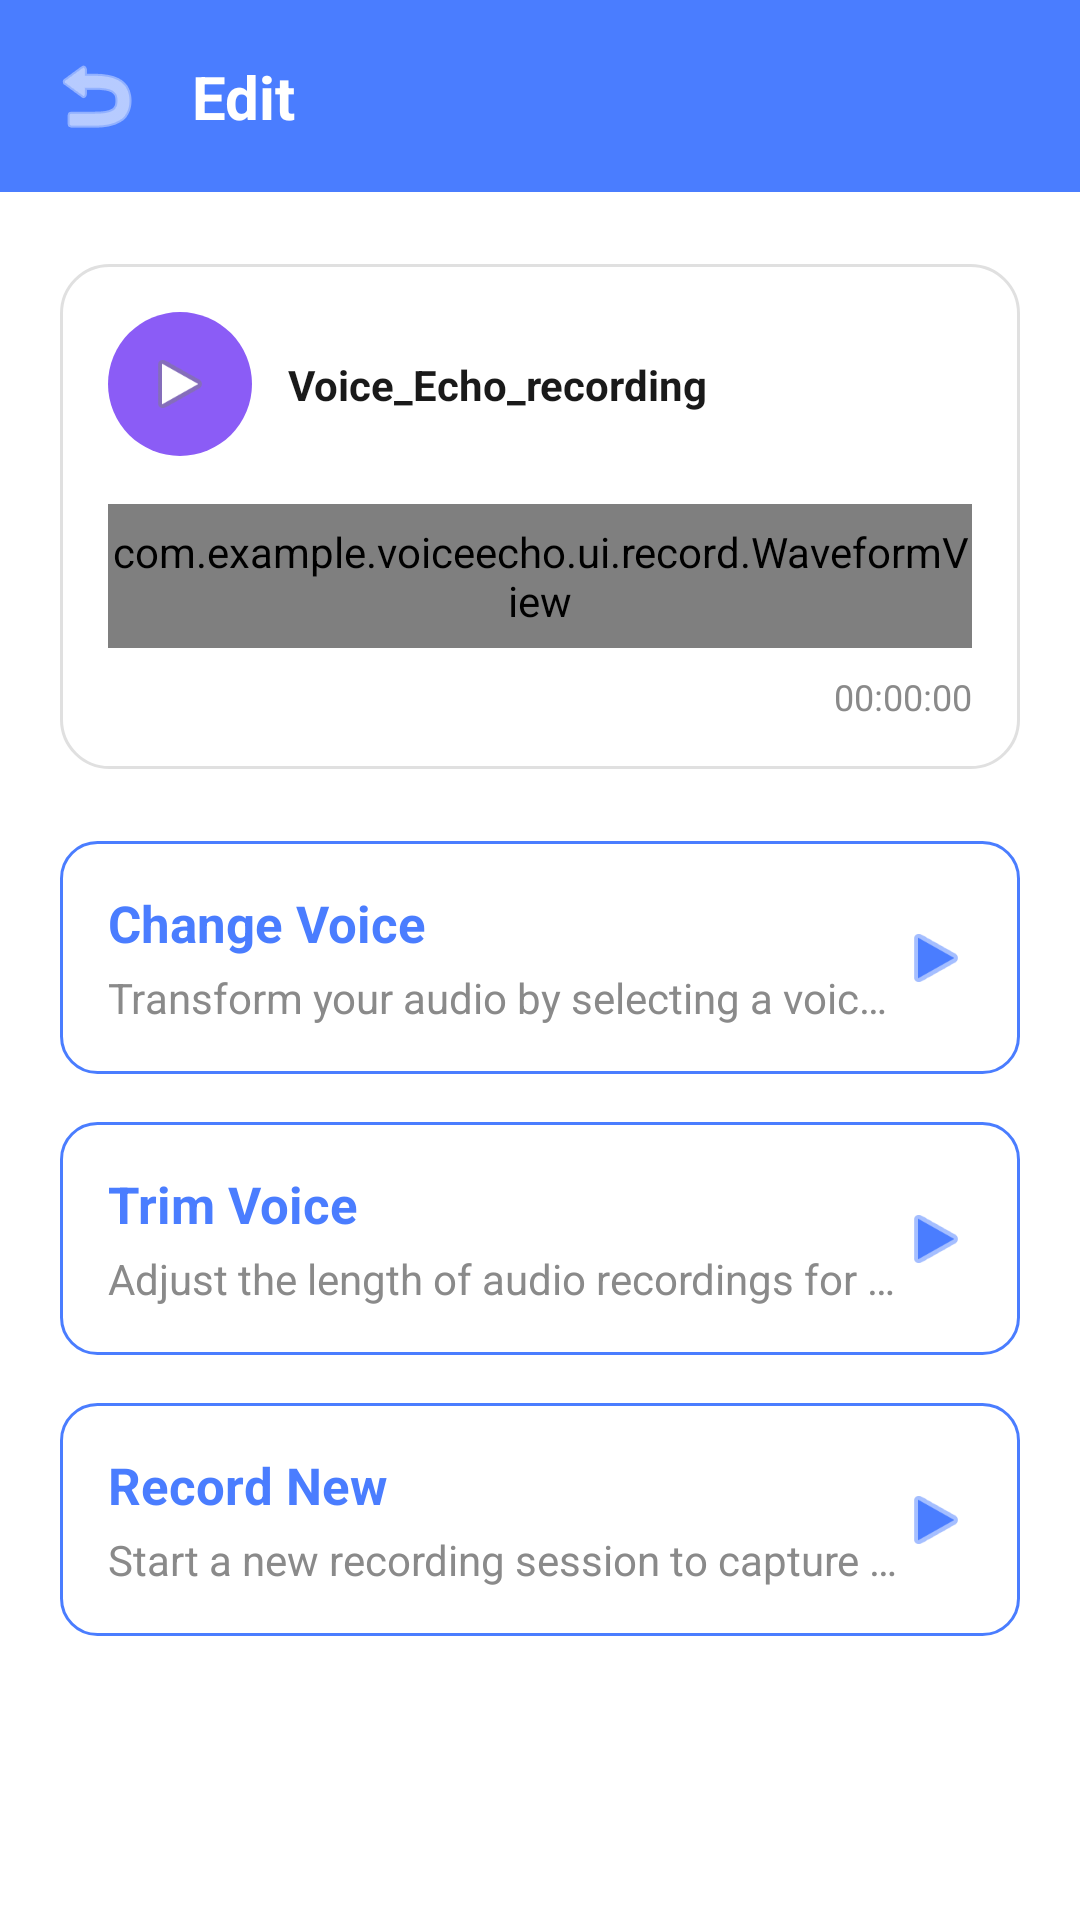

Where icons sit on this 1080px×1920px app screen, as (x1,y1,x2,y2):
Back: (63,65,132,128)
Play: (108,312,252,456), (914,934,958,982), (914,1215,958,1263), (914,1496,958,1544)
